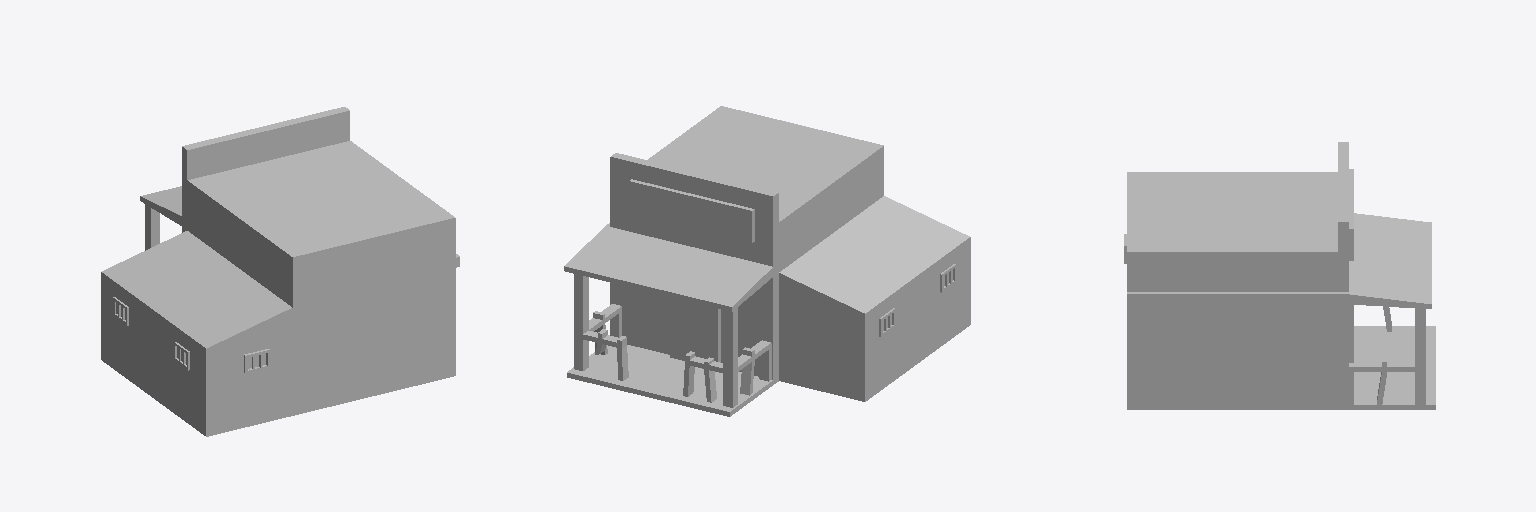
File: sheriff.obj
3 views of the same model, side by side, from view 1: azimuth 30°, elevation 25°; view 2: azimuth 150°, elevation 25°; view 3: azimuth 270°, elevation 25° (orthographic).
Visible parts, largest first — view 1: building, railing_2; view 2: building, top_sign, railing_2, railing_1, front door; view 3: building, railing_1.
Part boxes in pixels (x1,y1,x2,y2): building: (101,107,459,436); railing_2: (145,204,159,250); building: (564,106,970,416); top_sign: (629,179,754,242); railing_2: (683,307,771,407); railing_1: (574,274,628,380); front door: (670,297,720,362); building: (1127,142,1435,409); railing_1: (1349,308,1425,404).
Size of the model in its own units: 1.67 by 1.18 by 1.76.